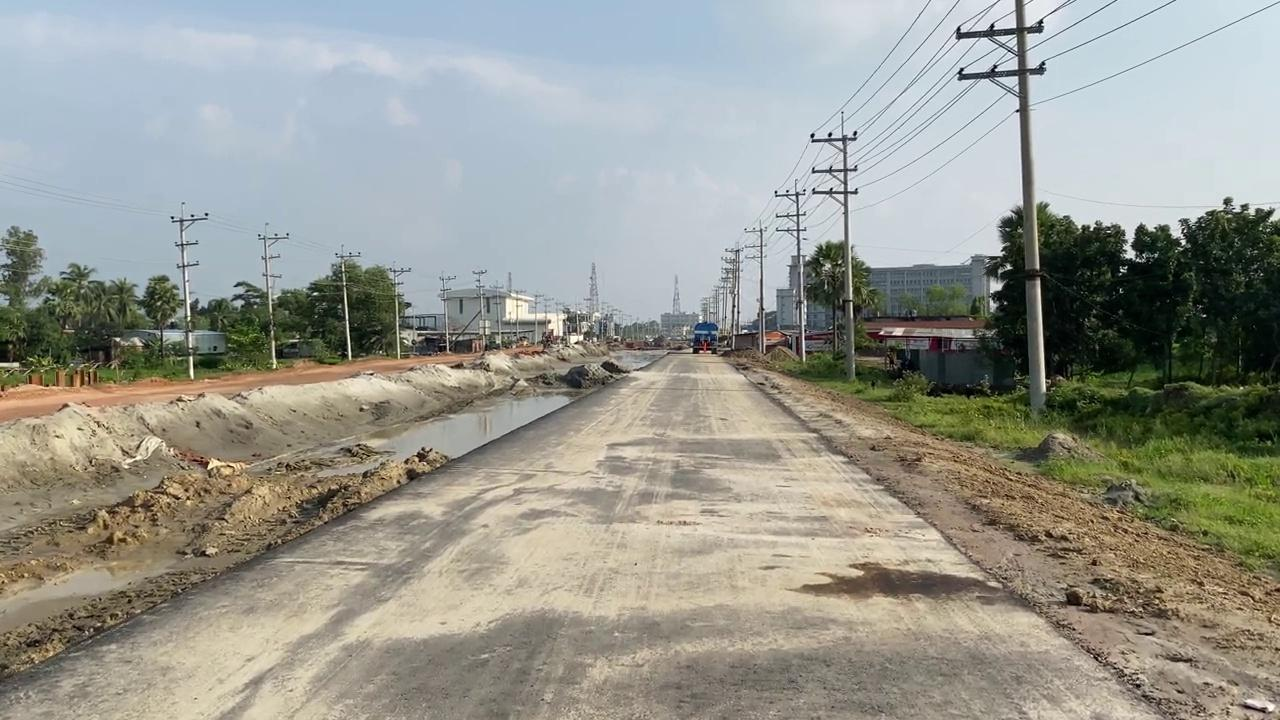Muddy road: (2, 341, 428, 716)
Pole: (1016, 9, 1047, 411), (814, 120, 861, 373), (170, 206, 206, 374), (781, 181, 813, 358), (250, 227, 280, 367)
Rickshaw: (430, 357, 1128, 702)
Sidewalk: (441, 372, 592, 441)
Traffic-sign: (808, 238, 883, 355)
Tree: (702, 318, 728, 349)
